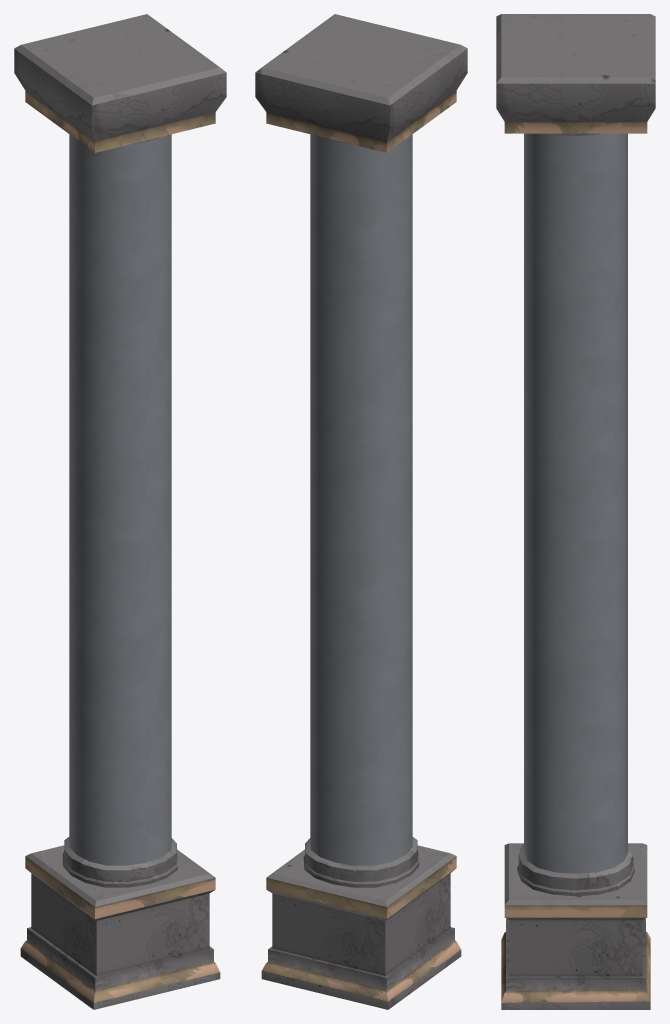
Rendered from Ev_company_Inner_pillar.fbx.
The picture shows the model from 3 angles, left to right: view 1: azimuth 30°, elevation 25°; view 2: azimuth 150°, elevation 25°; view 3: azimuth 270°, elevation 25°; orthographic projection. The views are drawn at different scales.
Visible parts, largest first — view 1: Ev_company_Inner_pillar; view 2: Ev_company_Inner_pillar; view 3: Ev_company_Inner_pillar.
Boxes of the visible parts, <box> form: Ev_company_Inner_pillar: <box>14,14,226,1009</box>; Ev_company_Inner_pillar: <box>255,14,467,1009</box>; Ev_company_Inner_pillar: <box>496,14,655,1009</box>.
Bounding box in the file's own units: 82.33 × 82.33 × 532.
